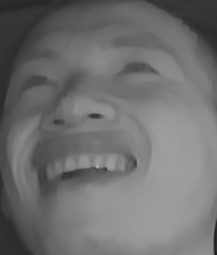eye: (111, 55, 163, 82), (16, 69, 62, 96)
mouth: (32, 138, 142, 196)
